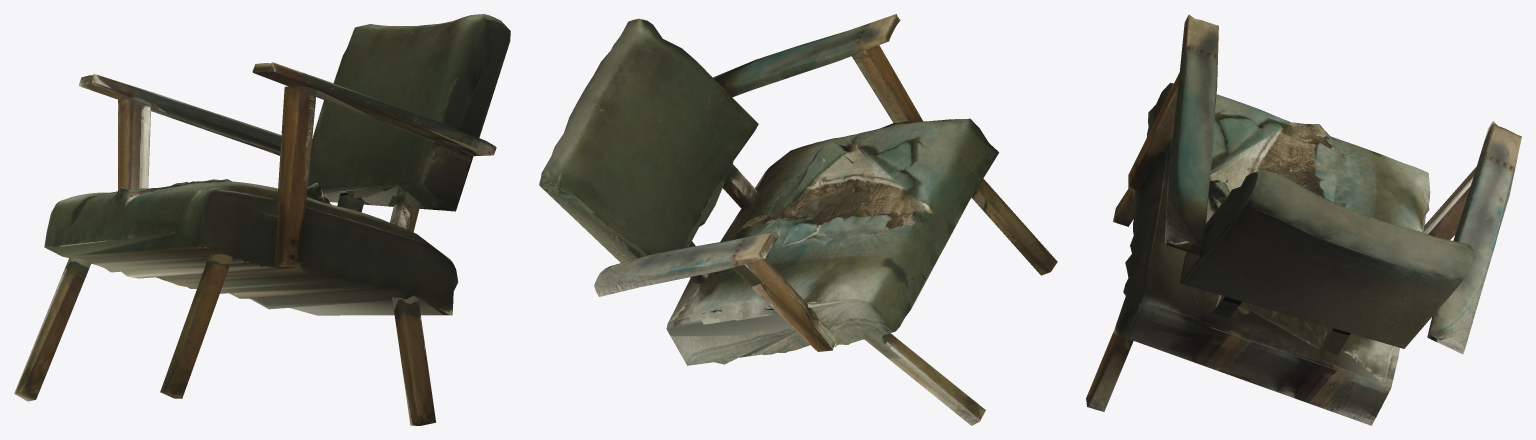
The model's file is ruined_green_chair.glb.
The picture shows the model from 3 angles, left to right: view 1: azimuth 30°, elevation 25°; view 2: azimuth 150°, elevation 25°; view 3: azimuth 270°, elevation 25°; orthographic projection. The views are drawn at different scales.
Visible parts, largest first — view 1: Chair; view 2: Chair; view 3: Chair.
Part boxes in pixels (x1,y1,x2,y2): Chair: [14, 14, 510, 425]; Chair: [539, 14, 1057, 425]; Chair: [1086, 14, 1521, 425].
Bounding box in the file's own units: 369 × 283 × 320.
1 material, 1 textured.
